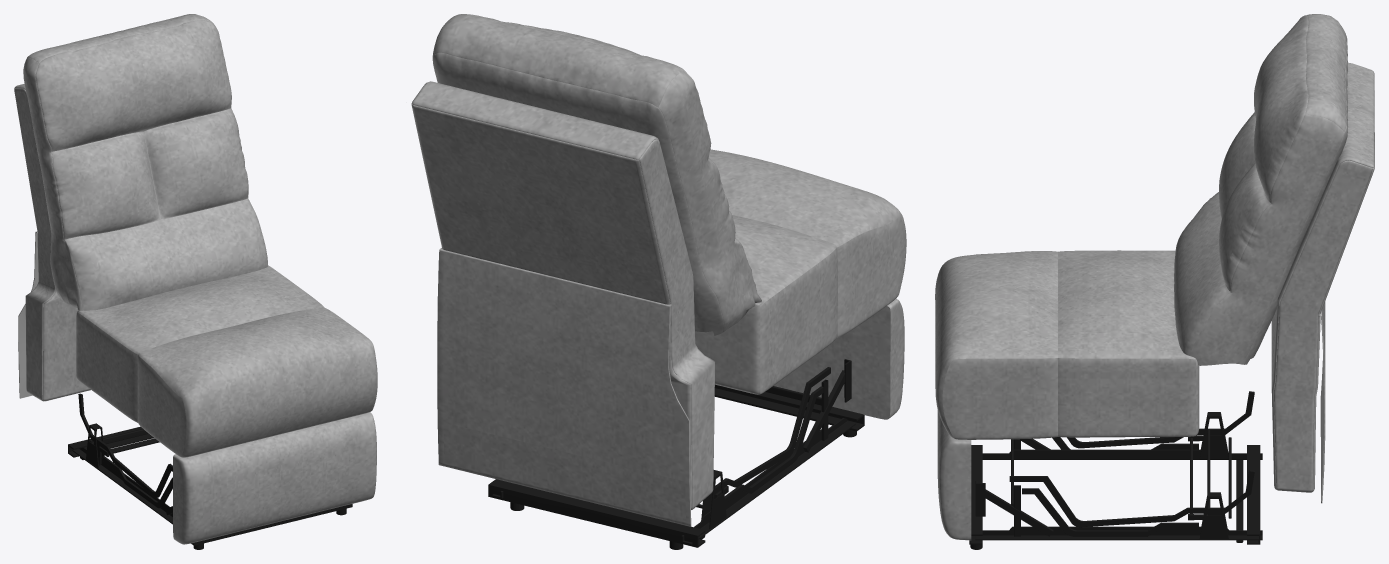
The model's file is single_sofa.glb.
3 views of the same model, side by side, from view 1: azimuth 30°, elevation 25°; view 2: azimuth 150°, elevation 25°; view 3: azimuth 270°, elevation 25° (orthographic). The views are drawn at different scales.
Visible parts, largest first — view 1: SIngleSofa; view 2: SIngleSofa; view 3: SIngleSofa.
Boxes of the visible parts, <box> form: SIngleSofa: <box>14,14,377,549</box>; SIngleSofa: <box>411,14,906,549</box>; SIngleSofa: <box>935,14,1374,549</box>.
Size of the model in its own units: 0.5529 by 1.06 by 0.9386.
Materials: 1 (1 with a texture image).
